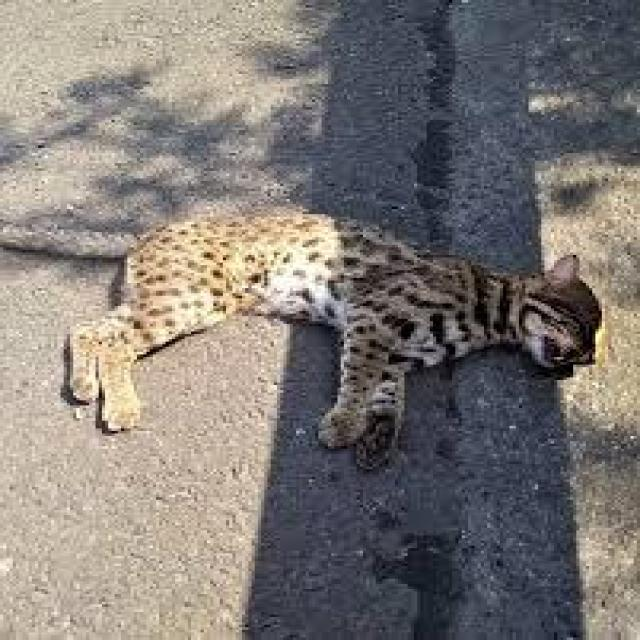leopard: (58, 172, 617, 452)
